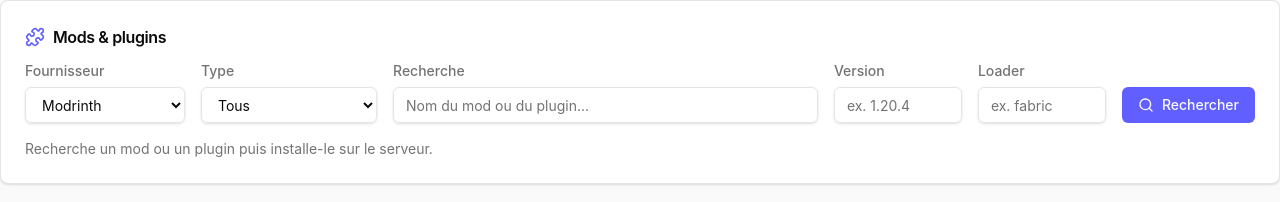
Test: ModSearch › reports a search error
In the field labelled "Recherche": (605, 105) [393, 87, 818, 123], type "sodium"
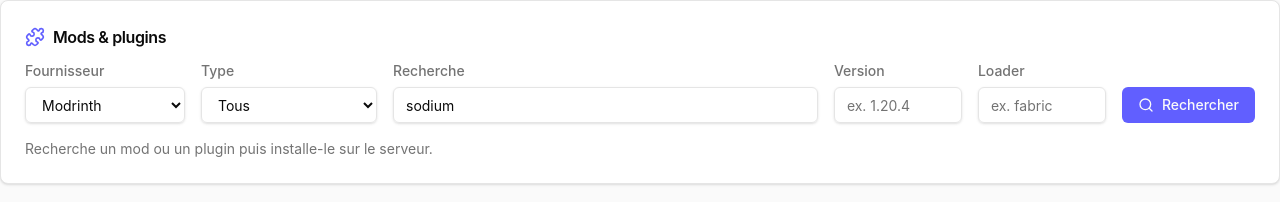
Click the button "Rechercher": click(1188, 105) [1122, 87, 1255, 123]
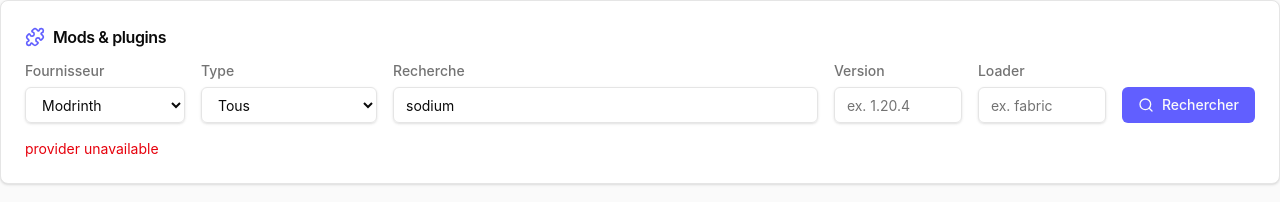
Now the text "provider unavailable" is shown, box [25, 140, 159, 157]
